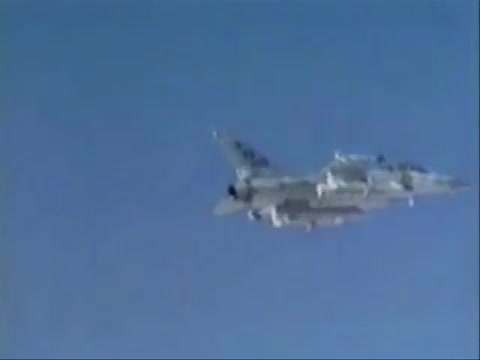aeroplane: (210, 132, 472, 233)
